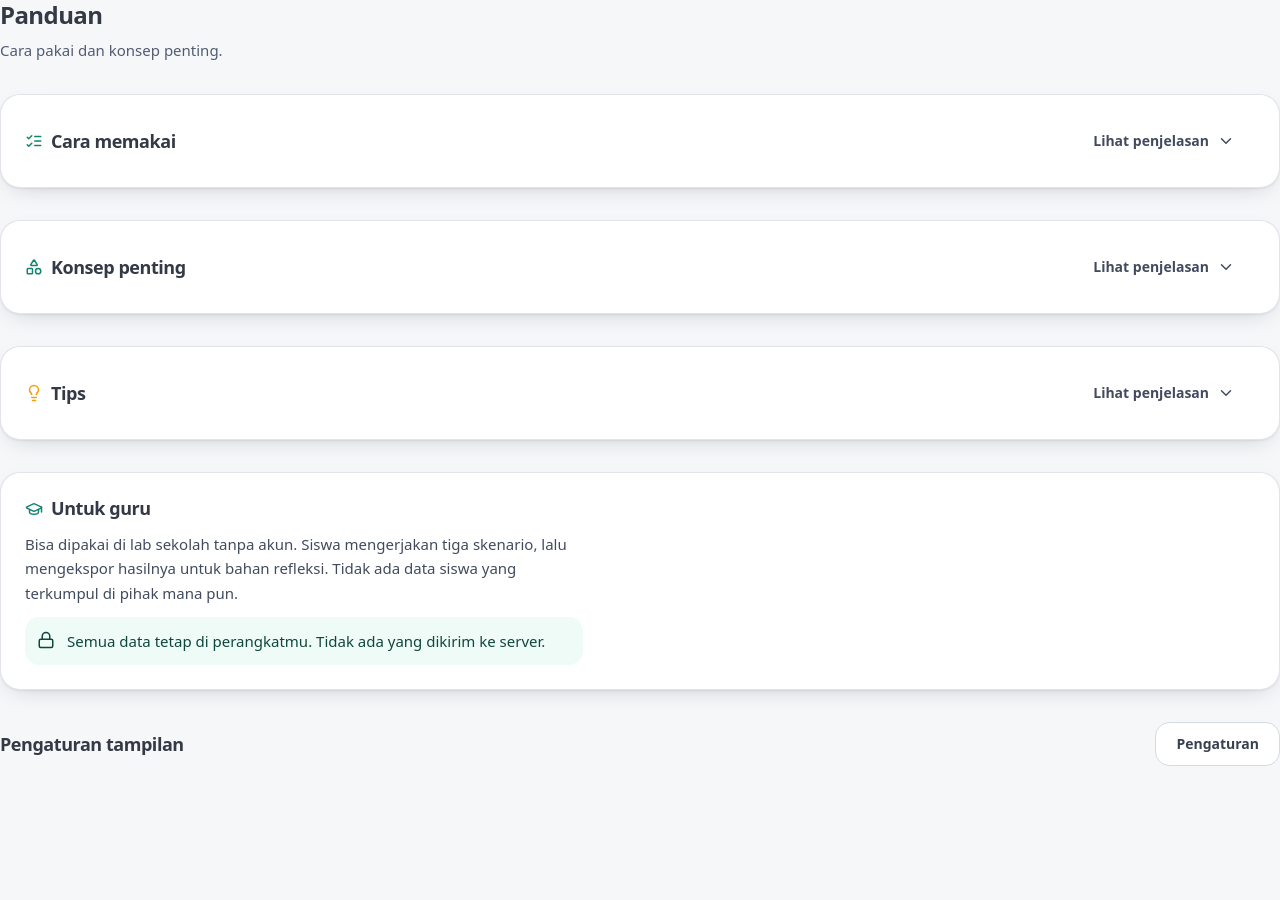
Test: GuidePage — konten panduan › menampilkan tips perlindungan data setelah accordion dibuka
Step 1. Click the button "Lihat penjelasan" in the row of "Tips" → (1164, 393), box x1=1073 y1=371 x2=1255 y2=415
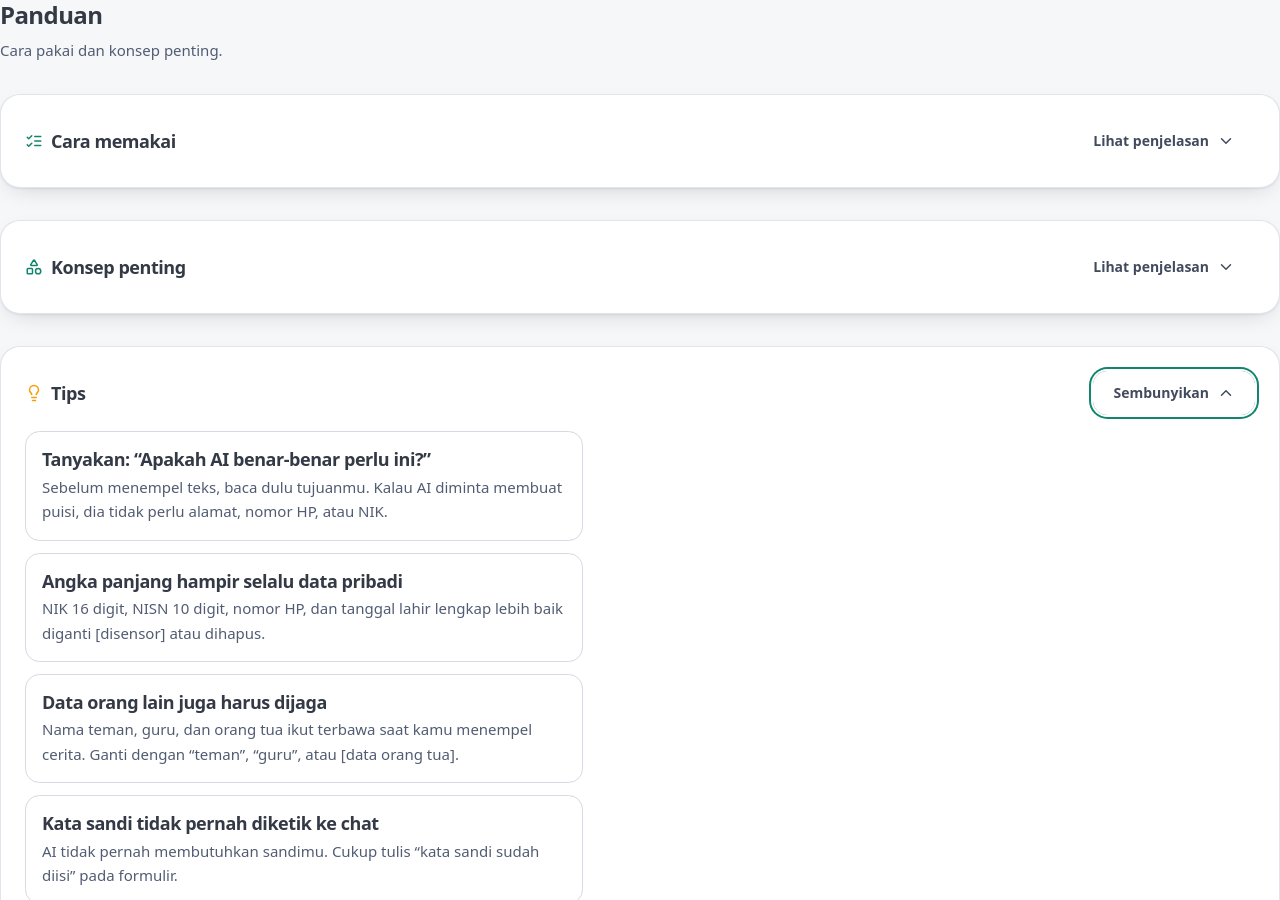
Now the button "Sembunyikan" is expanded, box x1=1093 y1=371 x2=1255 y2=415
Now the number of list items is 8
Now the text "Sebelum menempel teks, baca dulu tujuanmu. Kalau AI diminta membuat puisi, dia tidak perlu alamat, nomor HP, atau NIK." is shown, box x1=42 y1=477 x2=562 y2=521
